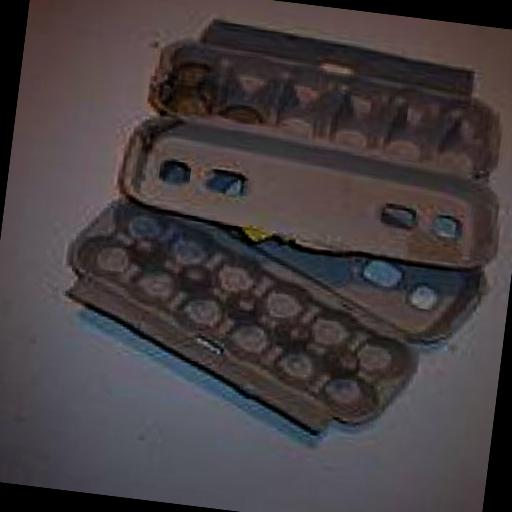cardboard: (49, 188, 438, 445), (118, 108, 512, 272), (143, 9, 512, 180), (198, 210, 495, 348)
